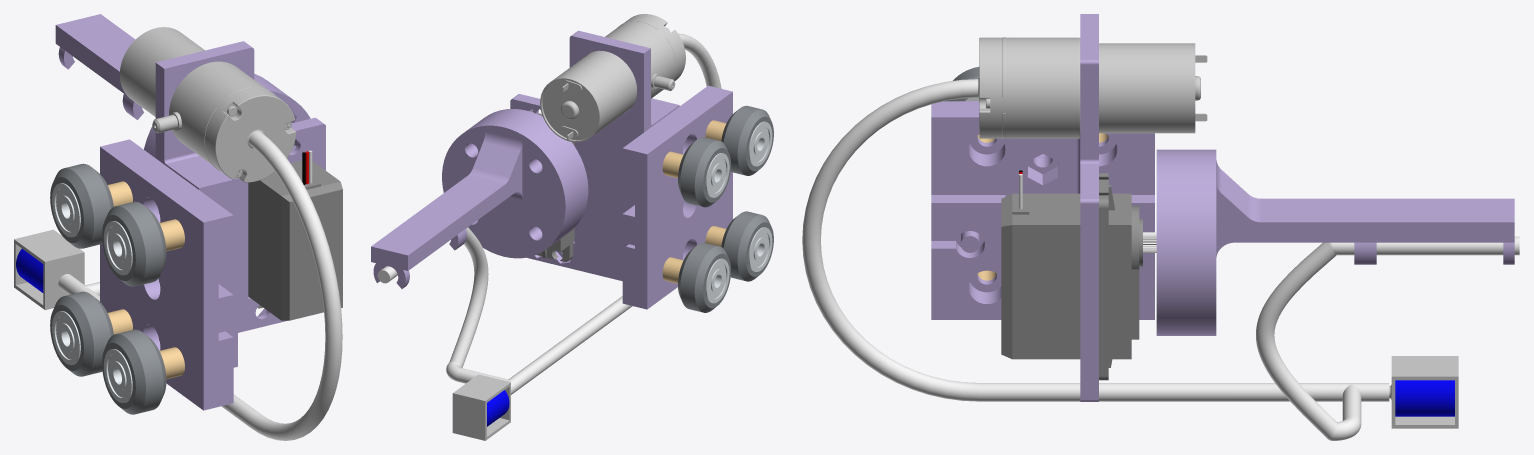
File: Axe R.gltf
3 views of the same model, side by side, from view 1: azimuth 30°, elevation 25°; view 2: azimuth 150°, elevation 25°; view 3: azimuth 270°, elevation 25° (orthographic). The views are drawn at different scales.
Visible parts, largest first — view 1: Part 1 (×10), PUMP, V-SLOT WHEEL (×4), FS5103B, 625-2RS (×4), EV; view 2: Part 1 (×9), PUMP, V-SLOT WHEEL (×4), 625-2RS (×4), EV, FS5103B; view 3: Part 1 (×7), FS5103B, PUMP, EV.
Part boxes in pixels (x1,y1,x2,y2): Part 1 (×10): (55,14,342,440); PUMP: (119,27,296,182); V-SLOT WHEEL (×4): (50,163,166,414); FS5103B: (248,140,342,320); 625-2RS (×4): (52,183,132,402); EV: (14,229,84,310); Part 1 (×9): (371,30,732,394); PUMP: (540,14,685,142); V-SLOT WHEEL (×4): (678,105,773,312); 625-2RS (×4): (705,121,772,303); EV: (452,374,510,440); FS5103B: (529,111,574,261); Part 1 (×7): (802,14,1519,440); FS5103B: (1001,170,1156,380); PUMP: (958,37,1207,138); EV: (1389,356,1458,428).
Bounding box in the file's own units: 0.0935 × 0.1127 × 0.1925.
